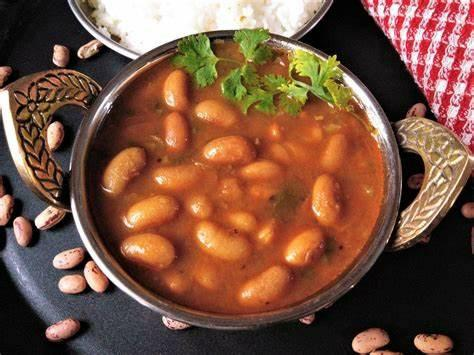RajmaCurry: (90, 43, 386, 315)
